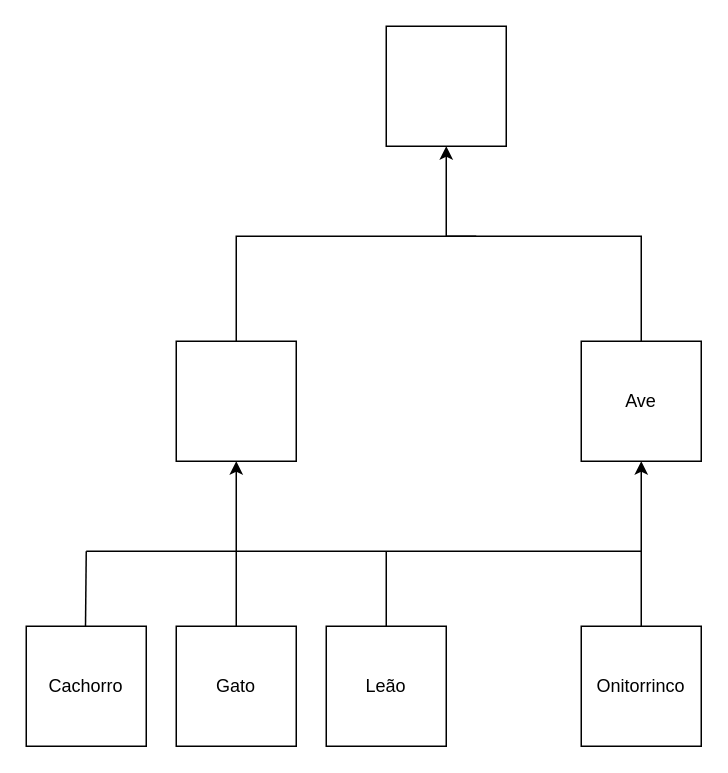
Image size: 728x773. Some labels were removed from this diagram. Here are the shapes that lost their labels. From the top down, the box of each, then its label:
(385, 25, 506, 146): Animal
(175, 340, 296, 461): Mamífero
